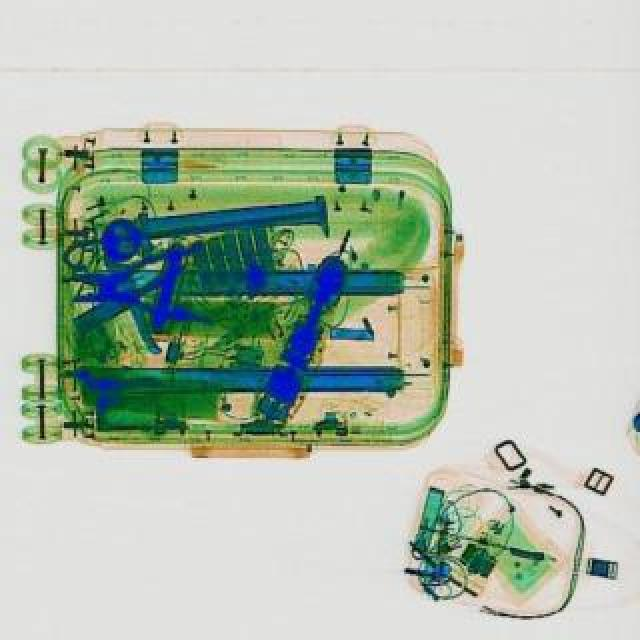wrench: (70, 240, 214, 326)
